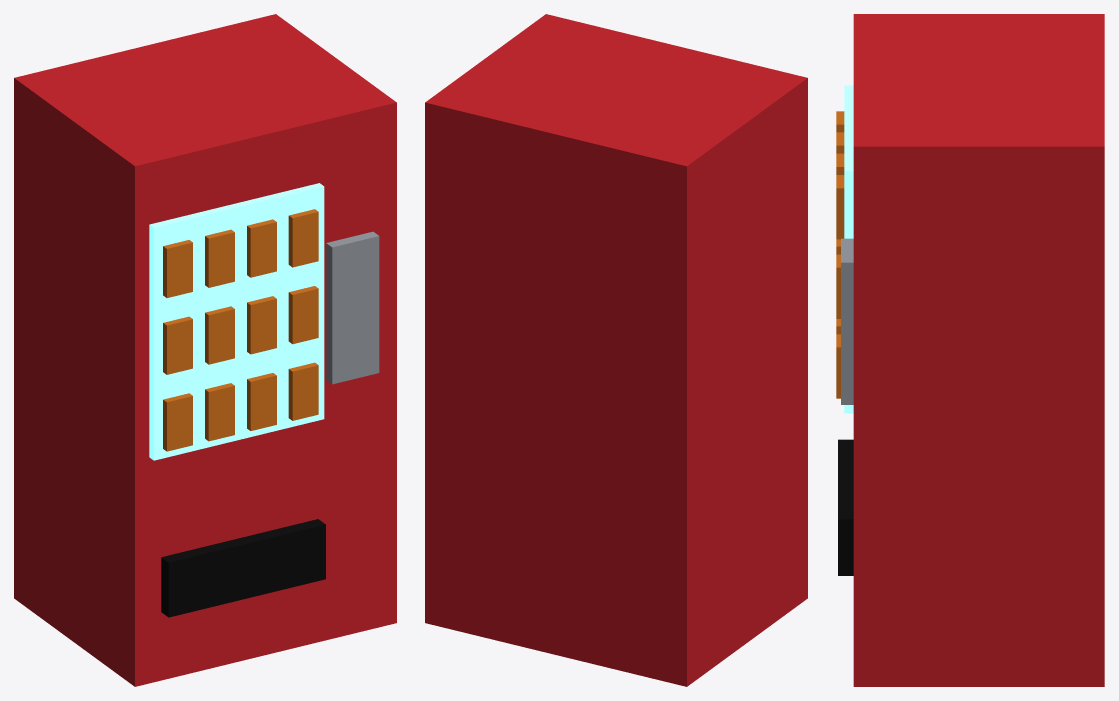
File: SM_VendingMachine.fbx
3 views of the same model, side by side, from view 1: azimuth 30°, elevation 25°; view 2: azimuth 150°, elevation 25°; view 3: azimuth 270°, elevation 25° (orthographic). The views are drawn at different scales.
Visible parts, largest first — view 1: SM_VendingMachine; view 2: SM_VendingMachine; view 3: SM_VendingMachine.
Part boxes in pixels (x1,y1,x2,y2): SM_VendingMachine: (14,14,396,686); SM_VendingMachine: (425,14,807,686); SM_VendingMachine: (836,14,1104,686).
Size of what is drawn, in the model's own units: 1 by 1.9 by 0.855.
